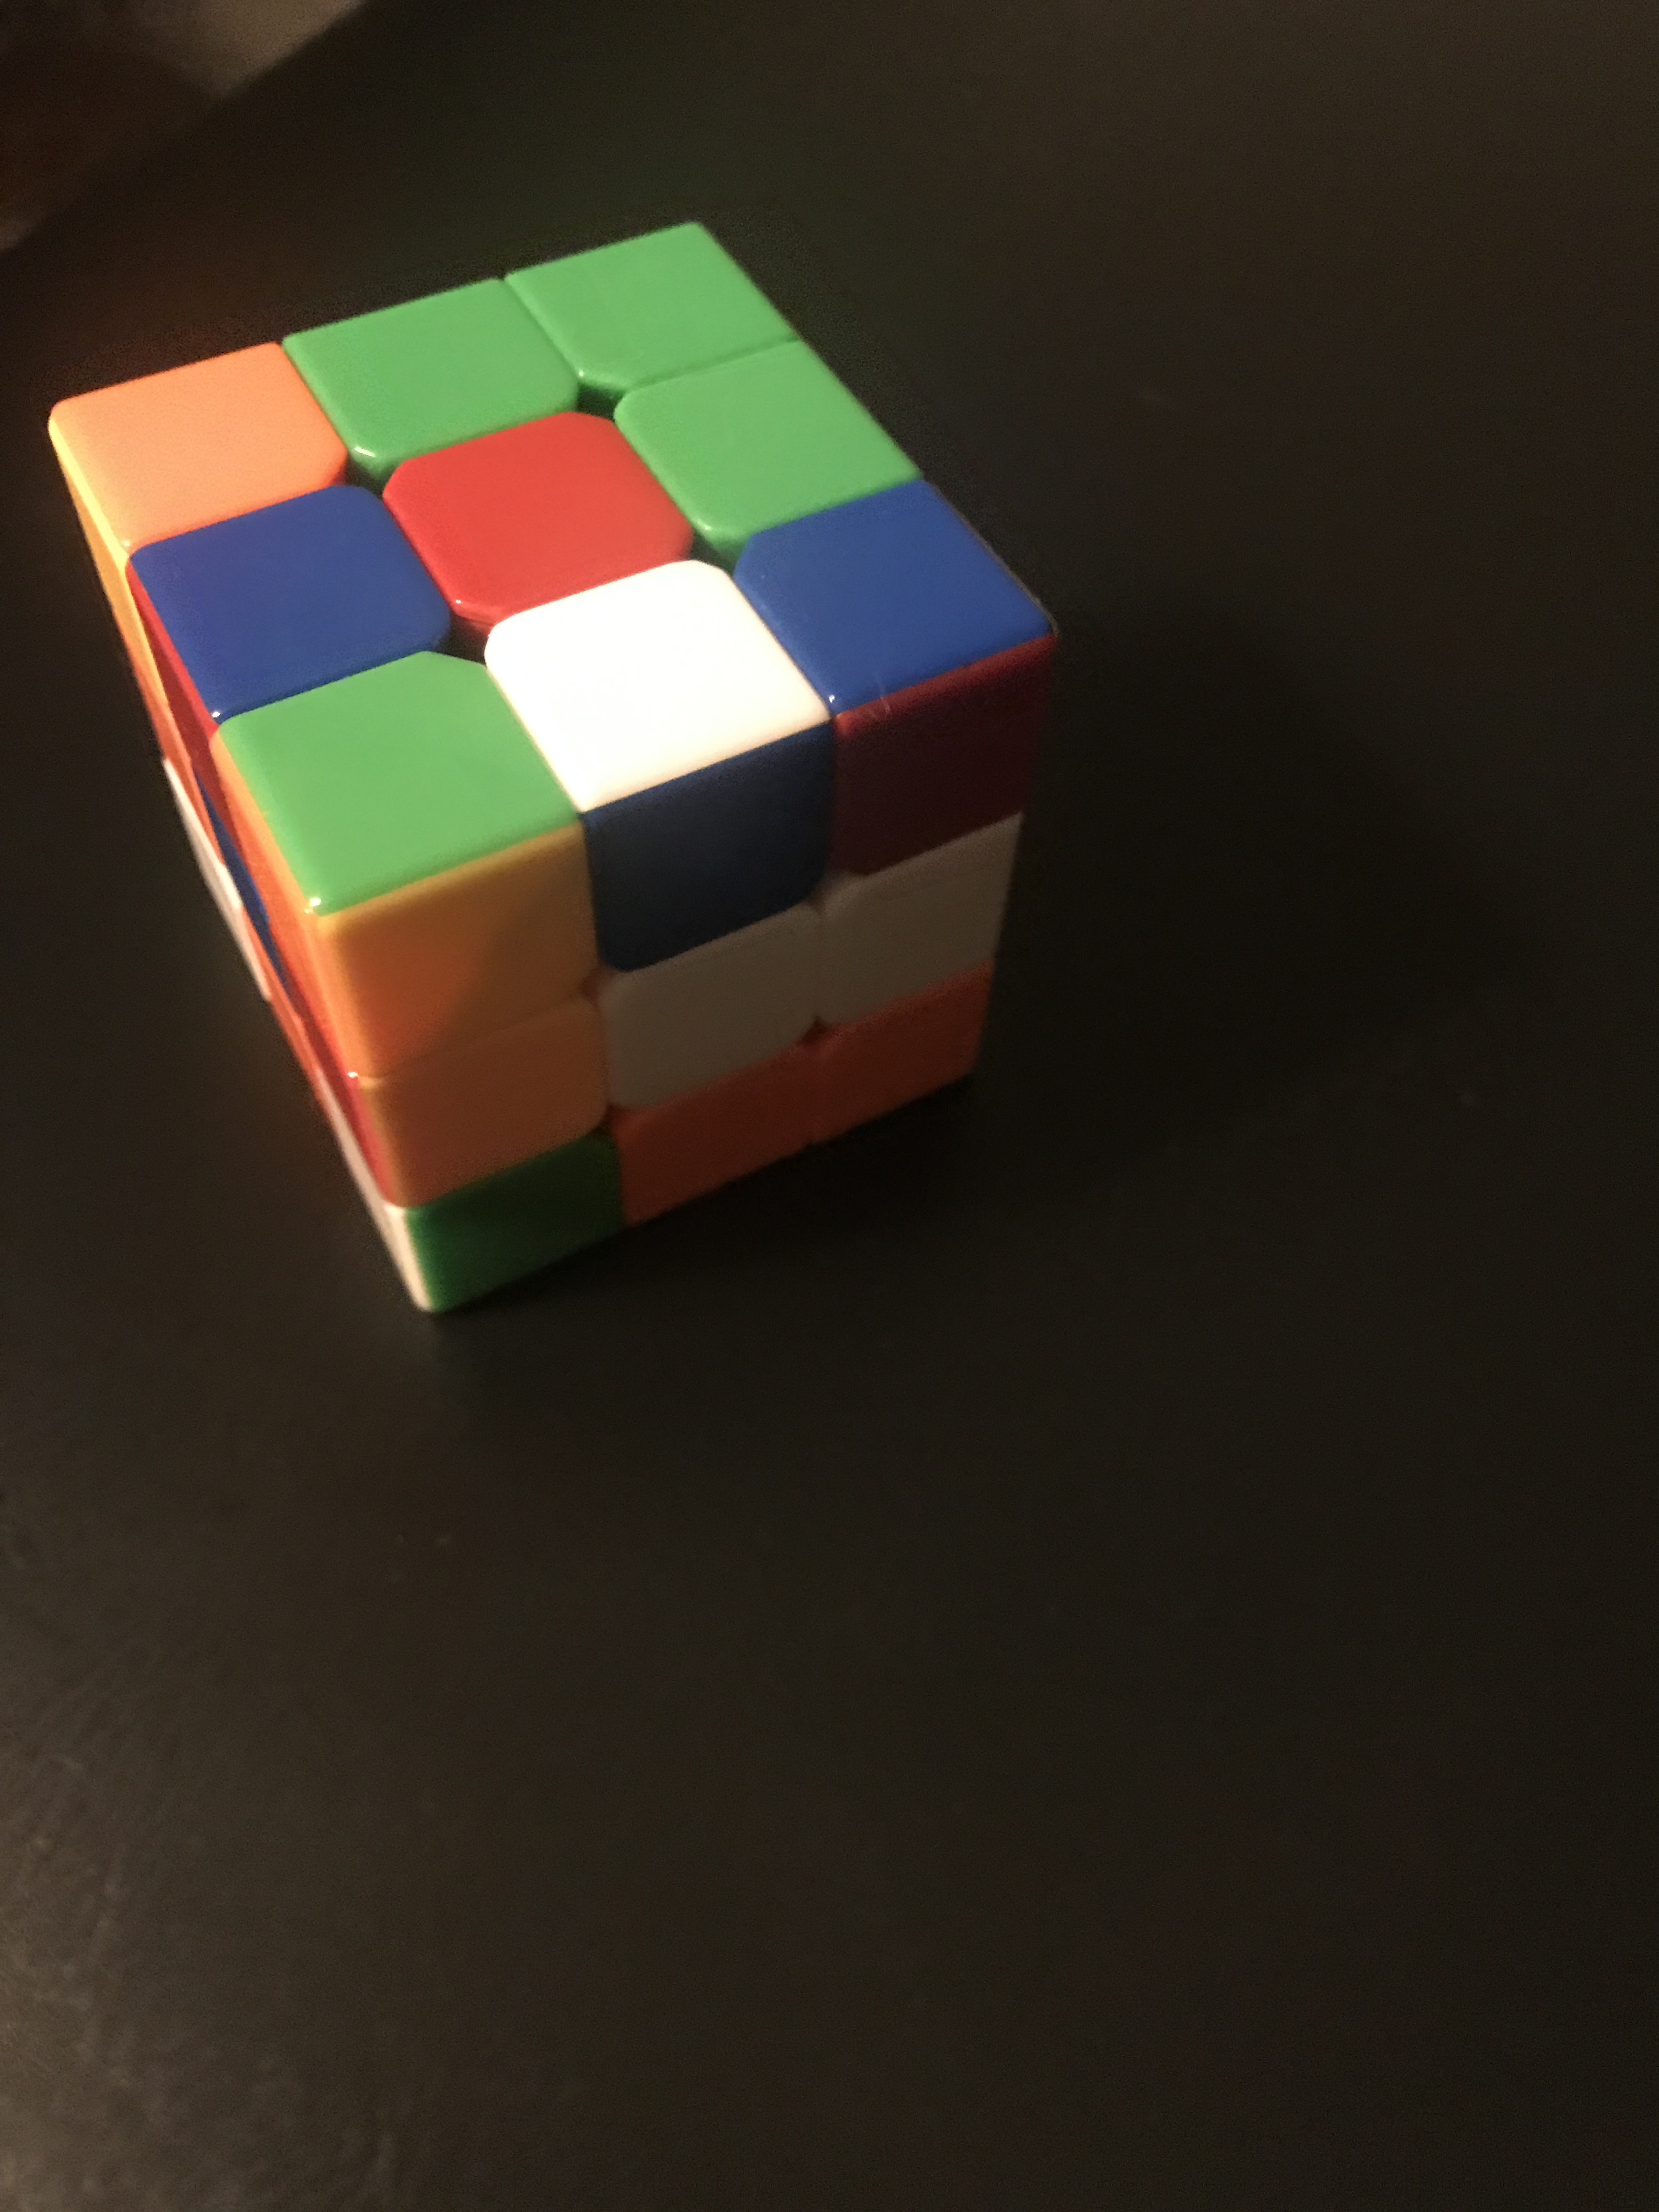rubiks: (51, 221, 1065, 1312)
